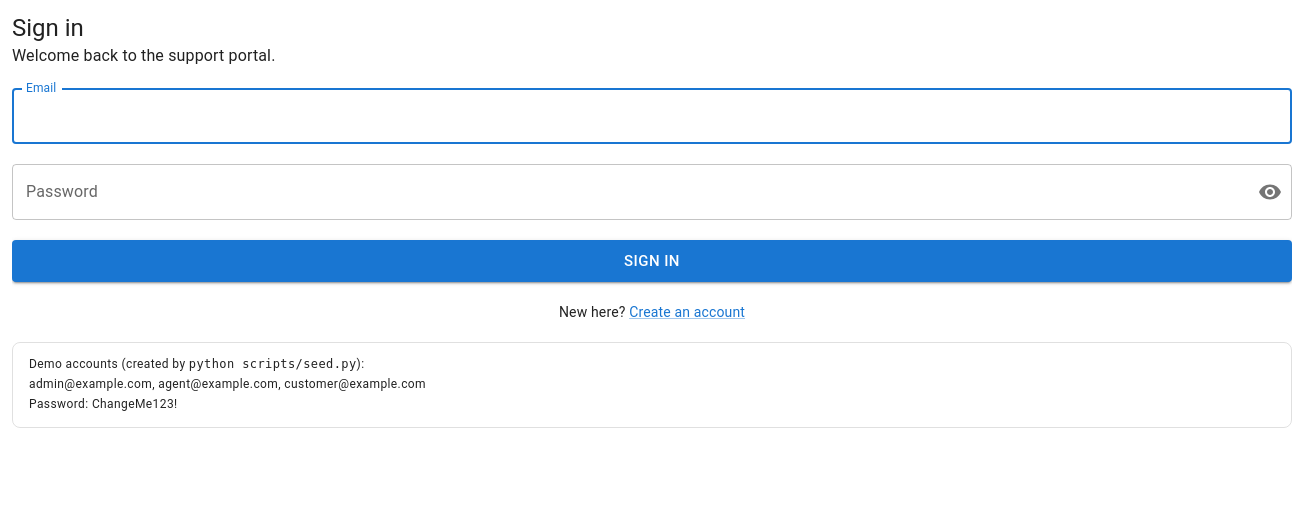
Login page › shows the API error message when sign-in fails
Type "casey@example.com" into the field labelled "Email". click: (652, 116)
box: top-left (12, 88), bottom-right (1292, 144)
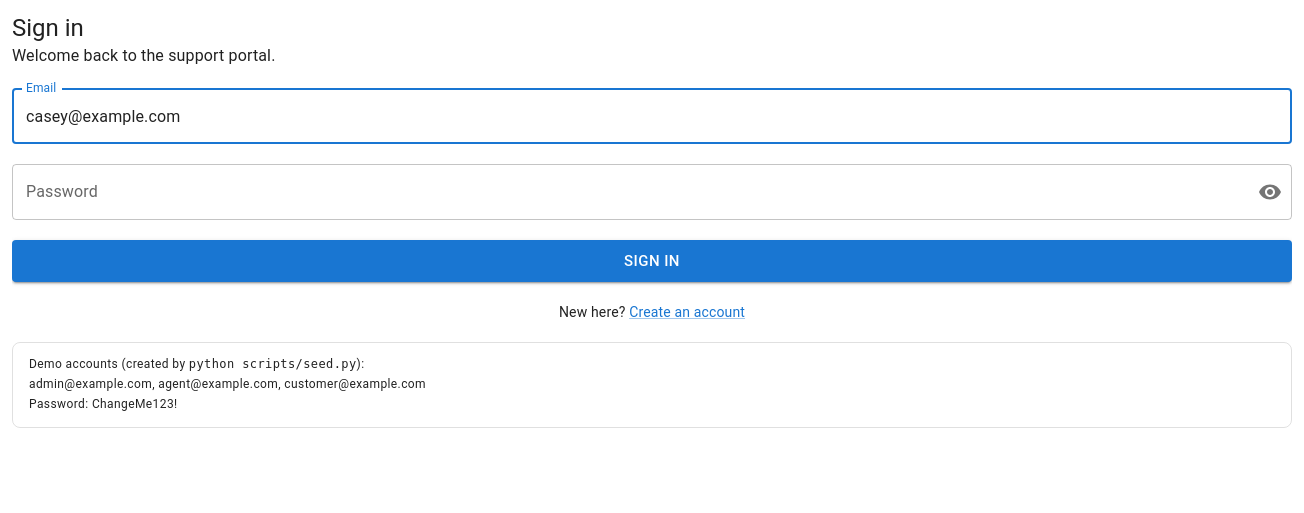
Type "WrongPass1" into the password field labelled "Password". click: (627, 192)
box: top-left (12, 164), bottom-right (1242, 220)
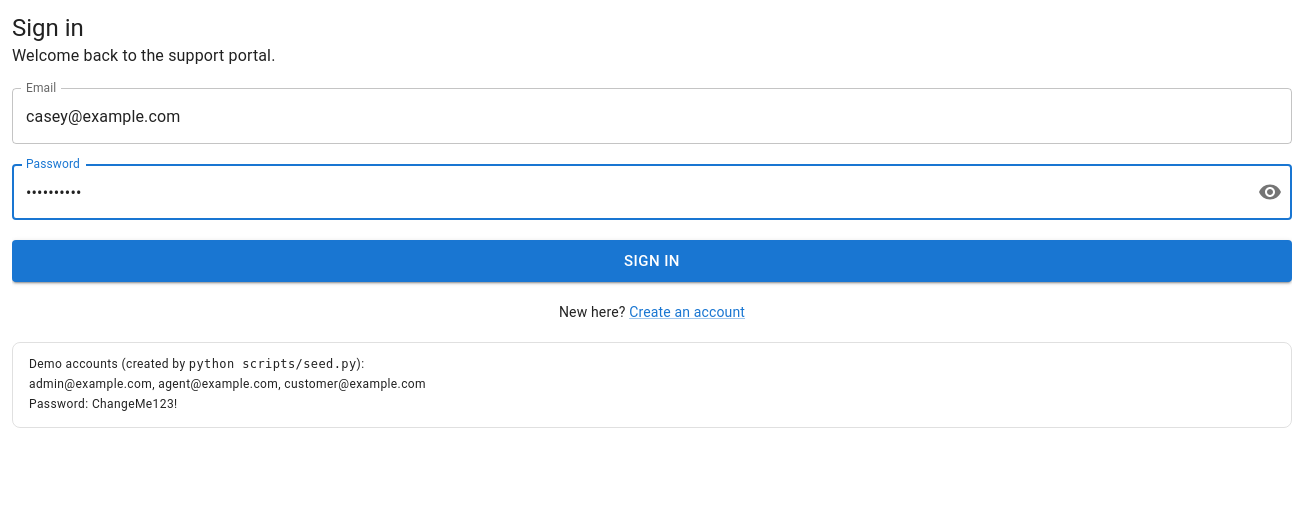
Click the button "Sign in". click: (652, 261)
box: top-left (12, 240), bottom-right (1292, 282)
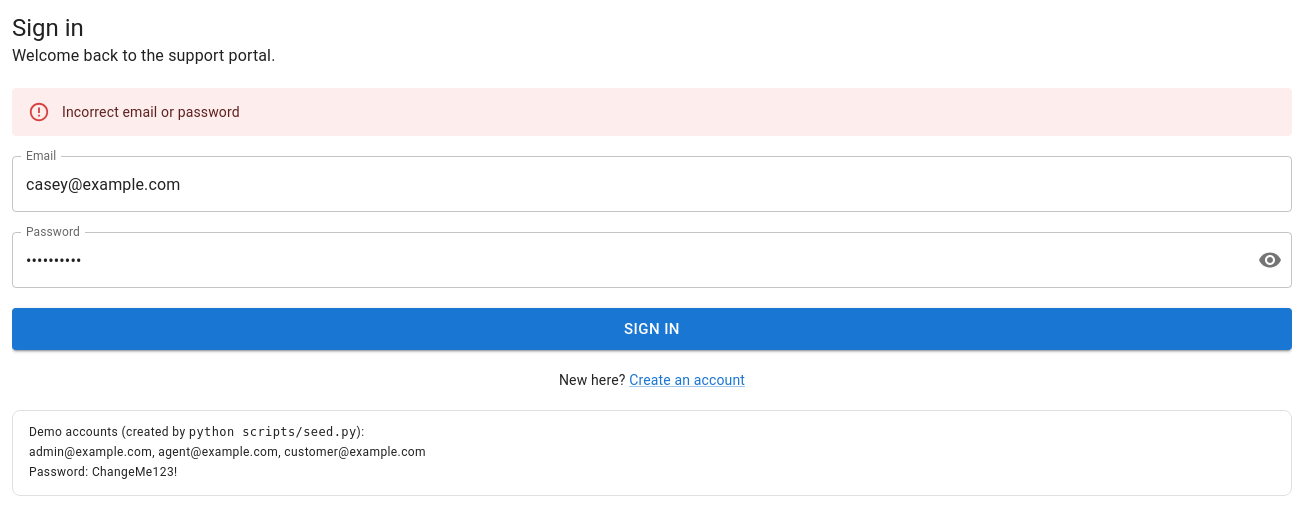
Expected: the button "Sign in" is enabled, top-left (12, 308), bottom-right (1292, 350)
Result: the message reads "Incorrect email or password" at top-left (62, 104), bottom-right (240, 120)
